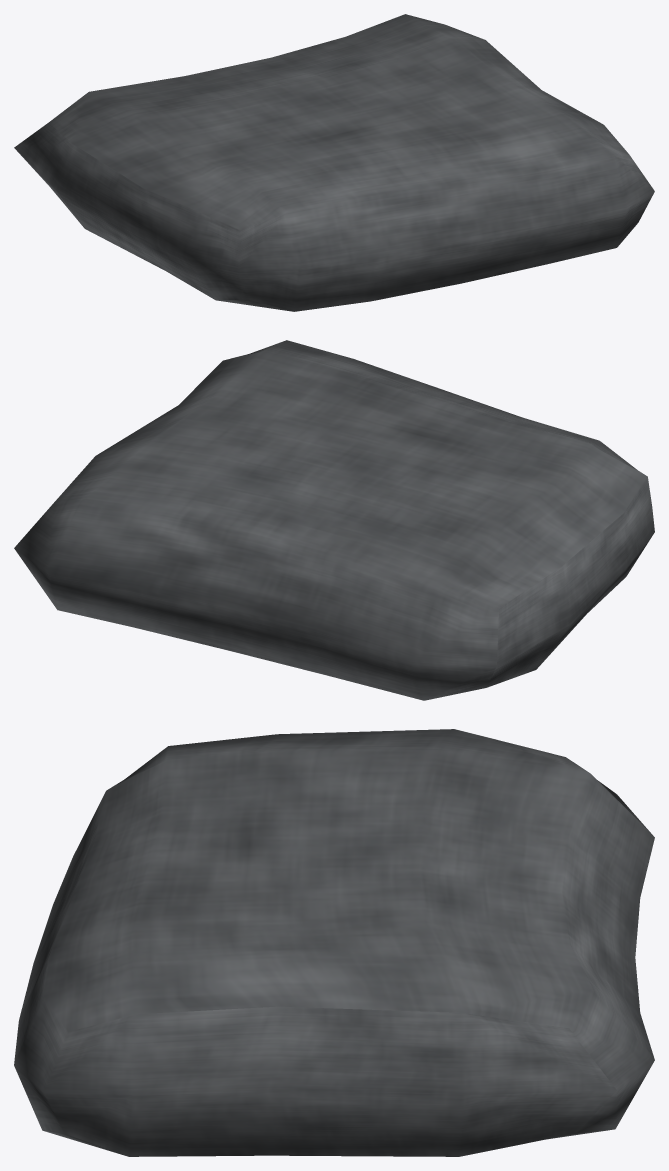
File: Steen 4.fbx
The picture shows the model from 3 angles, top to bottom: view 1: azimuth 30°, elevation 25°; view 2: azimuth 150°, elevation 25°; view 3: azimuth 270°, elevation 25°; orthographic projection. The views are drawn at different scales.
Visible parts, largest first — view 1: pCube3; view 2: pCube3; view 3: pCube3.
Part boxes in pixels (x1,y1,x2,y2): pCube3: [14, 14, 654, 311]; pCube3: [14, 340, 654, 700]; pCube3: [14, 729, 654, 1156].
Size of the model in its own units: 0.966 by 0.255 by 0.8509.
